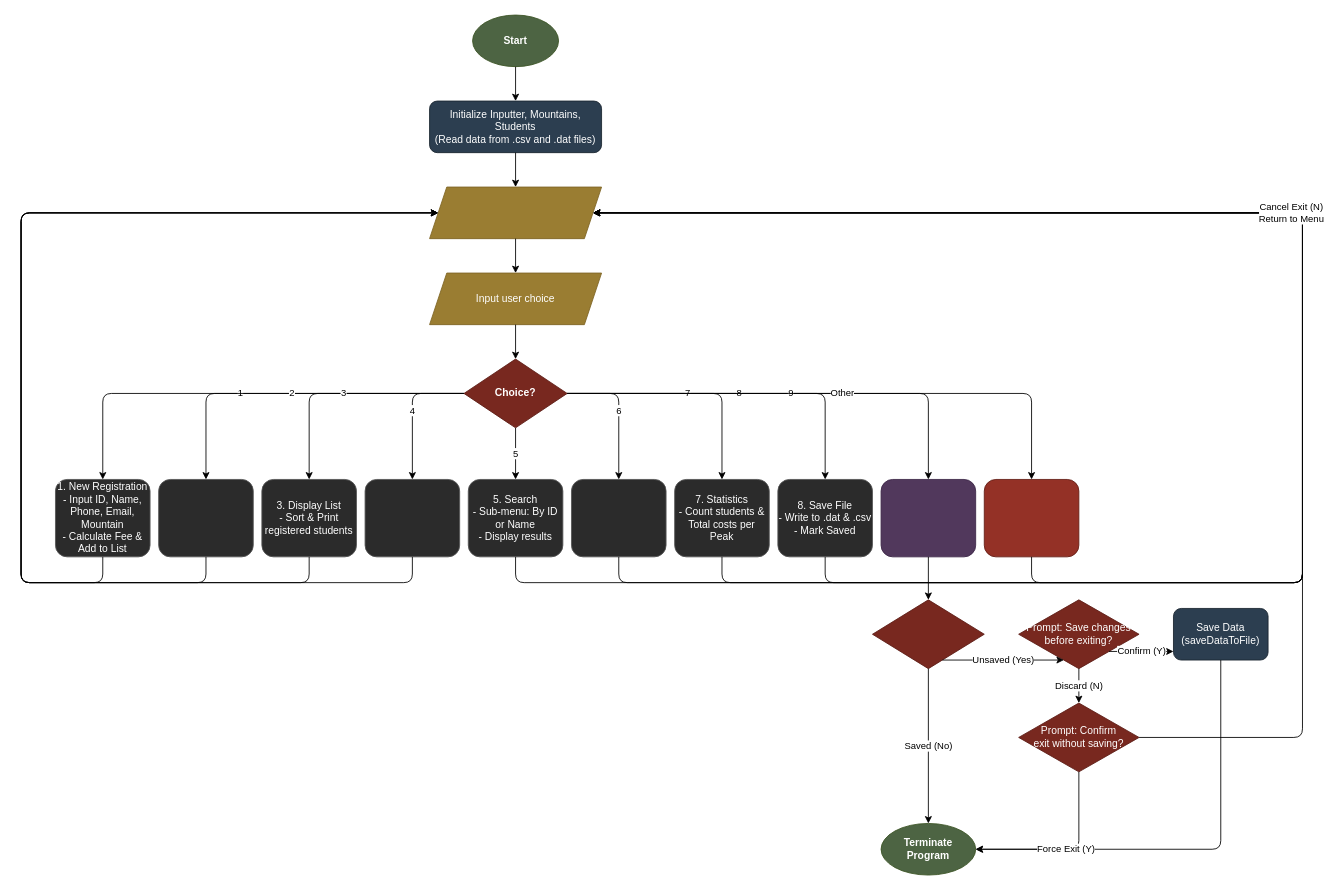
The diagram is 1339 pixels wide and 890 high, and some of its shapes have lost their labels. Each missing label, with the centre of its shape:
"2. Update Registration - Search by ID - Update details - Mark Unsaved" goes at [205,518].
"4. Delete Registration - Search by ID - Confirm Y/N & Remove" goes at [412,518].
"6. Filter by Campus - Input Campus Code - Display filtered results" goes at [618,518].
"9. Exit (exitProgram)" goes at [928,518].
"Default: Error - Notice: Option does not exist" goes at [1031,518].
"Display Menu (Options 1 to 9)" goes at [515,212].
"Has data changed (Unsaved)?" goes at [928,634].
